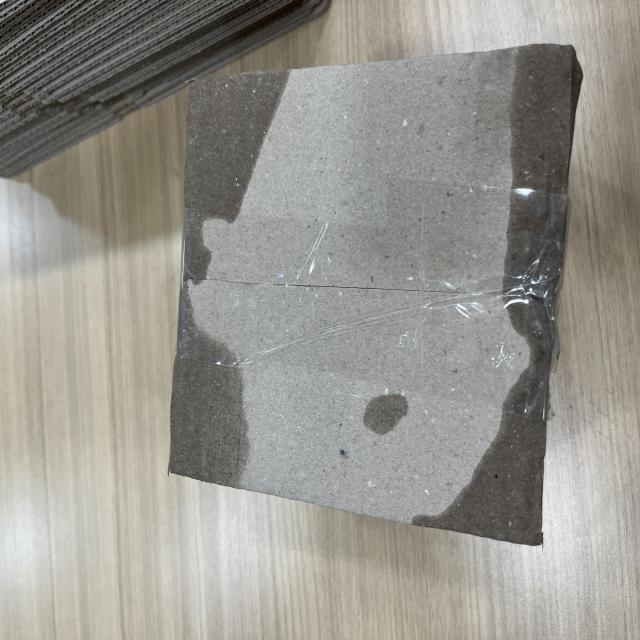wet: (67, 225, 448, 640)
